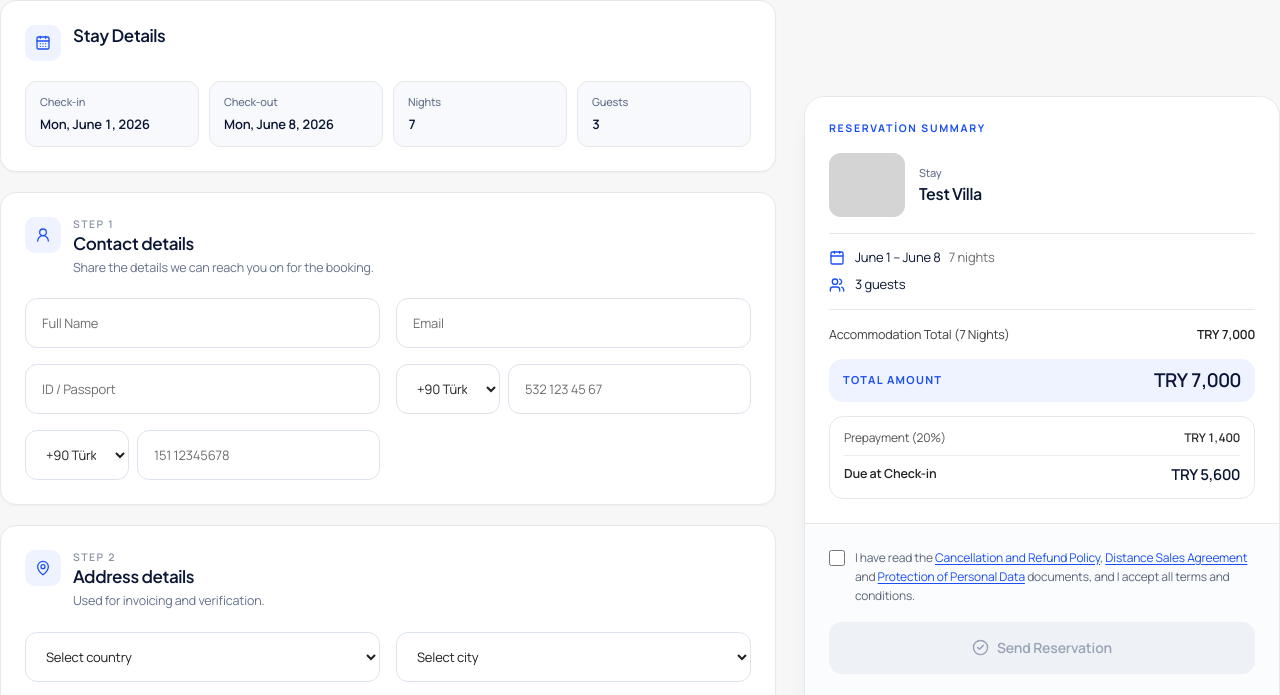
Scenario: 4) Hata mesajı — MEVCUT inline banner kullanılır › 4-en) onaysız gönderimde locale'e uygun uyarı
The image size is (1280, 695).
In the field with placeholder "Full Name": (202, 323) x1=25 y1=298 x2=380 y2=348, type "Ahmet Yılmaz"
In the field with placeholder "Email": (574, 323) x1=396 y1=298 x2=751 y2=348, type "test@example.com"
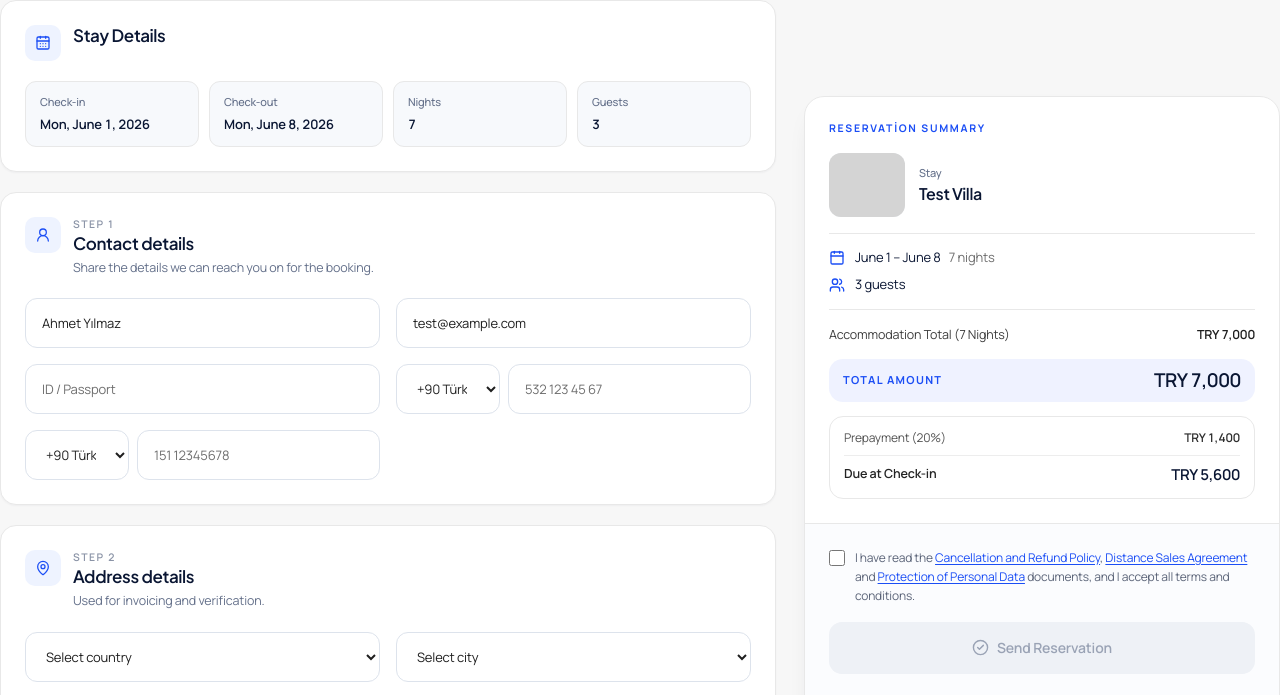
In the field with placeholder "532 123 45 67": (630, 389) x1=508 y1=364 x2=751 y2=414, type "5551112233"
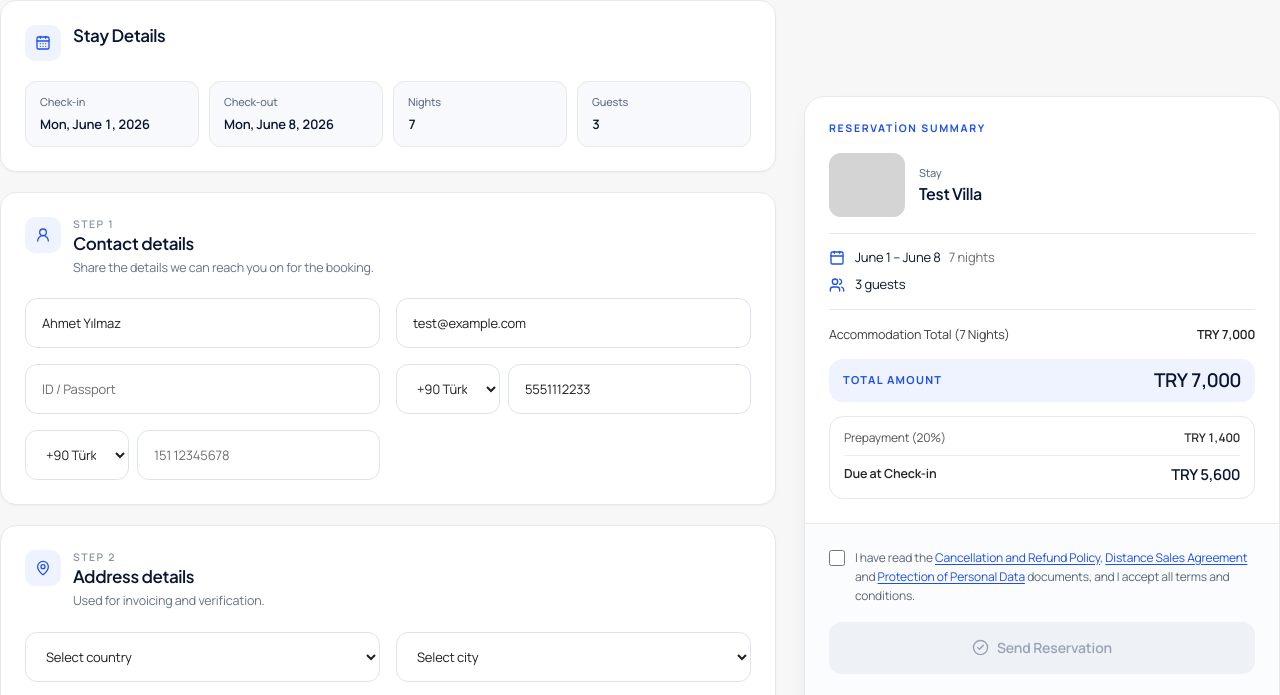
In the field with placeholder "151 12345678": (258, 455) x1=137 y1=430 x2=380 y2=480, type "5559998877"
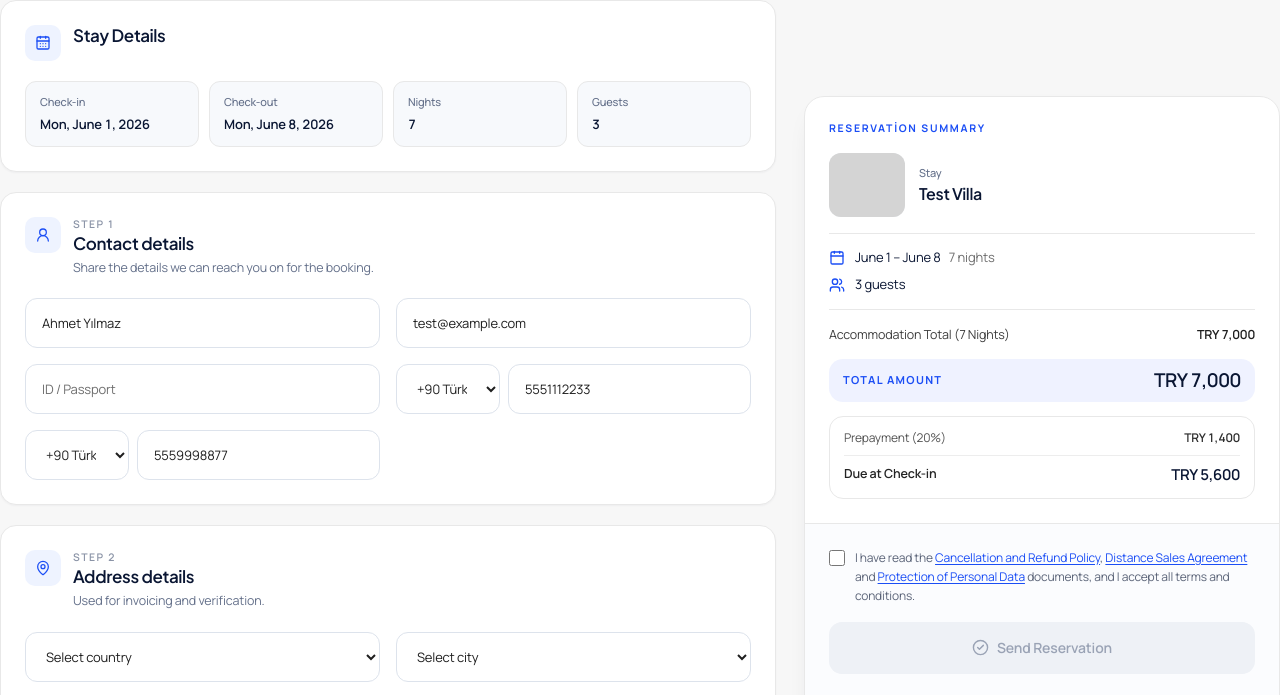
In the field with placeholder "ID / Passport": (202, 389) x1=25 y1=364 x2=380 y2=414, type "12345678901"
(page scrolled)
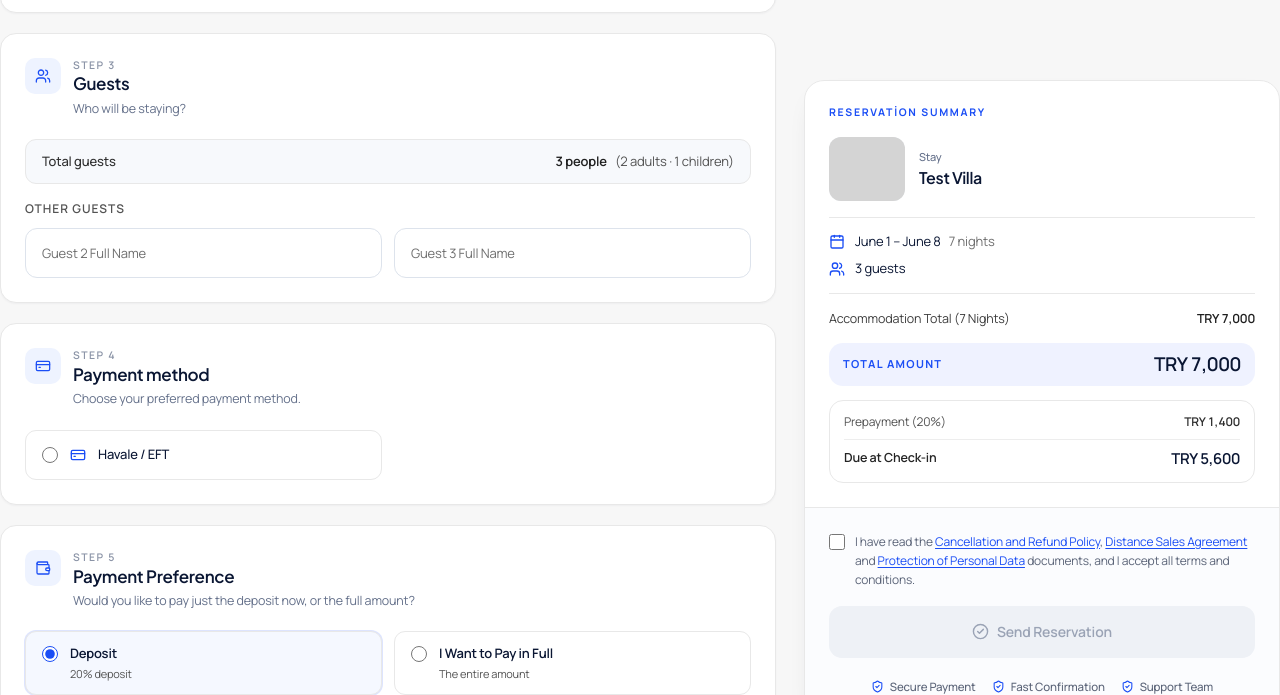
Click the radio button labelled "Havale / EFT": (50, 455) x1=42 y1=447 x2=58 y2=463
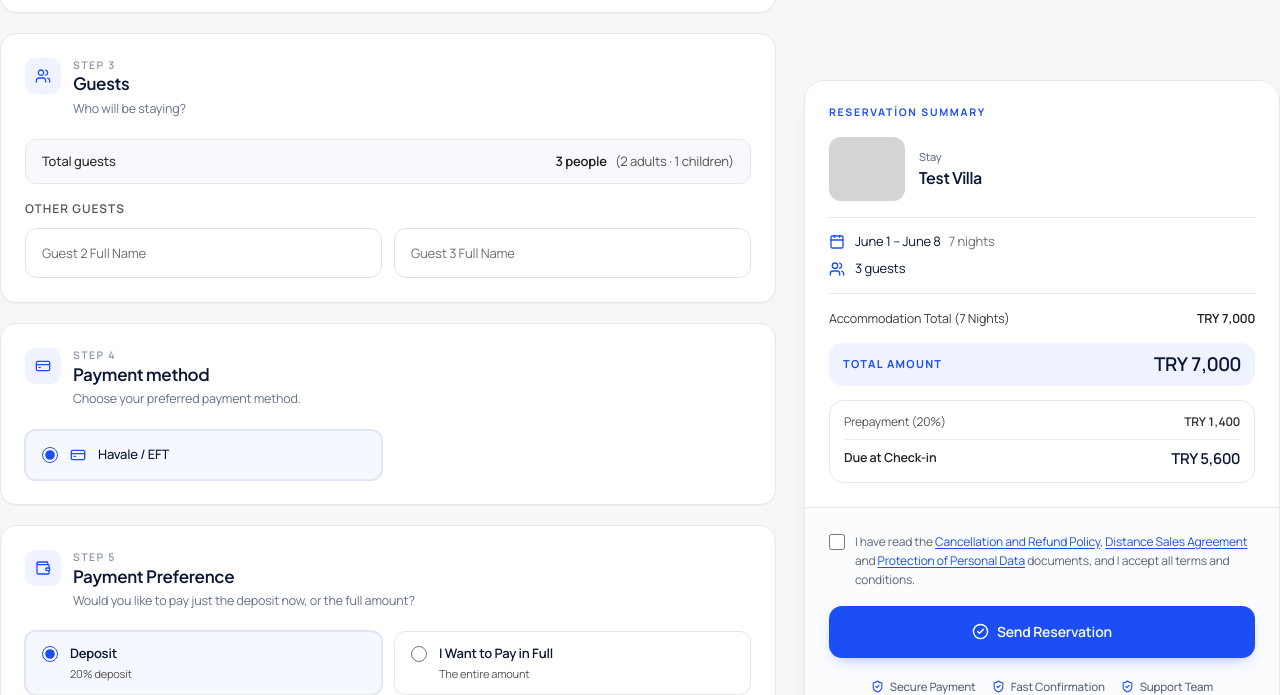
Click the button "Send Reservation": (1042, 632) x1=829 y1=606 x2=1255 y2=658
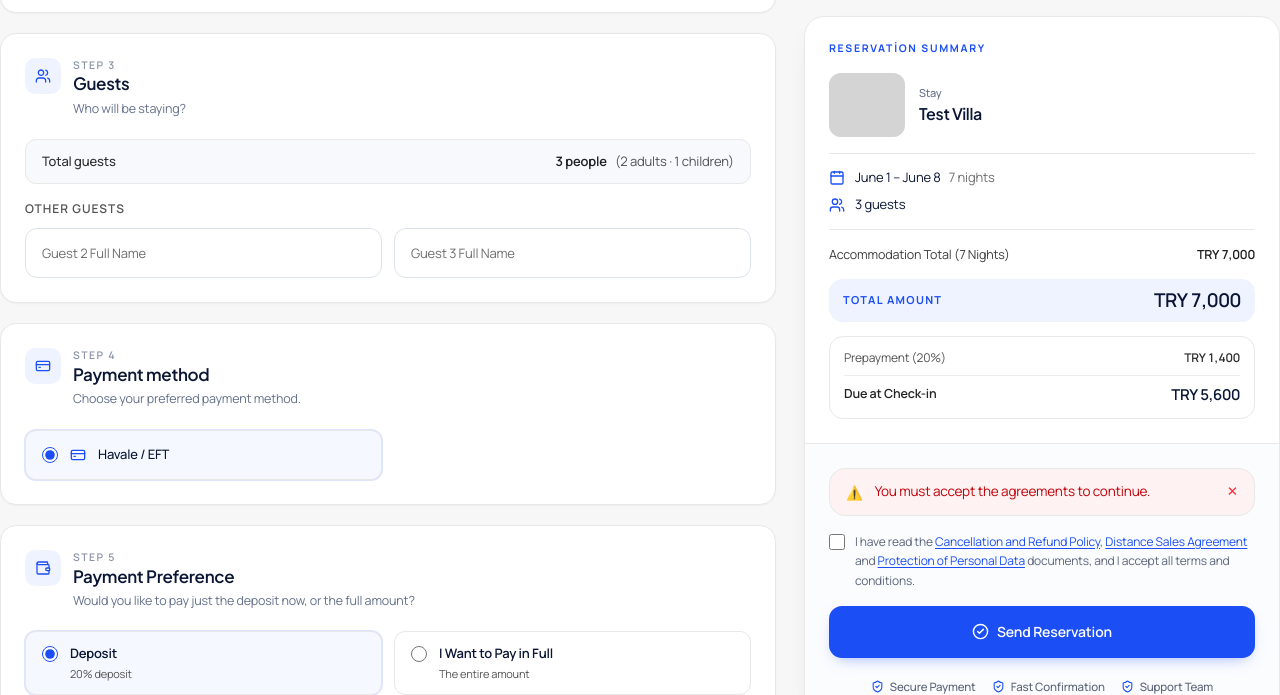
expect the text "You must accept the agreements to continue." is shown: met, box x1=875 y1=482 x2=1150 y2=500
